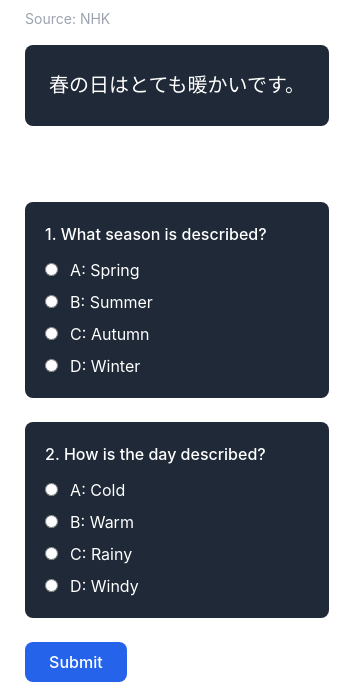
Test: ReadingDetailPage › shows submit error when mutation fails
The image size is (355, 690).
(page scrolled)
Step 1. Click the button "Submit" → (76, 662), box [25,642,127,682]
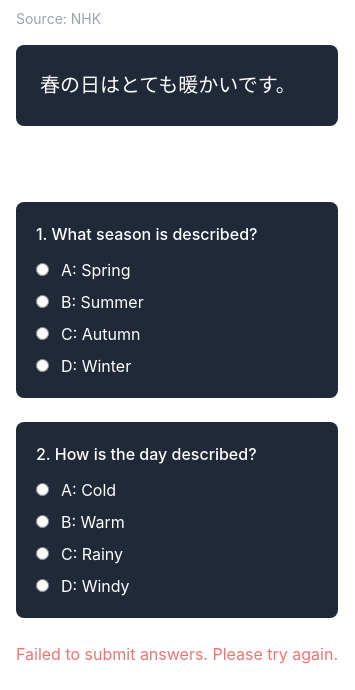
Expected: the text "Failed to submit answers. Please try again." is shown, [16,642,338,666]
